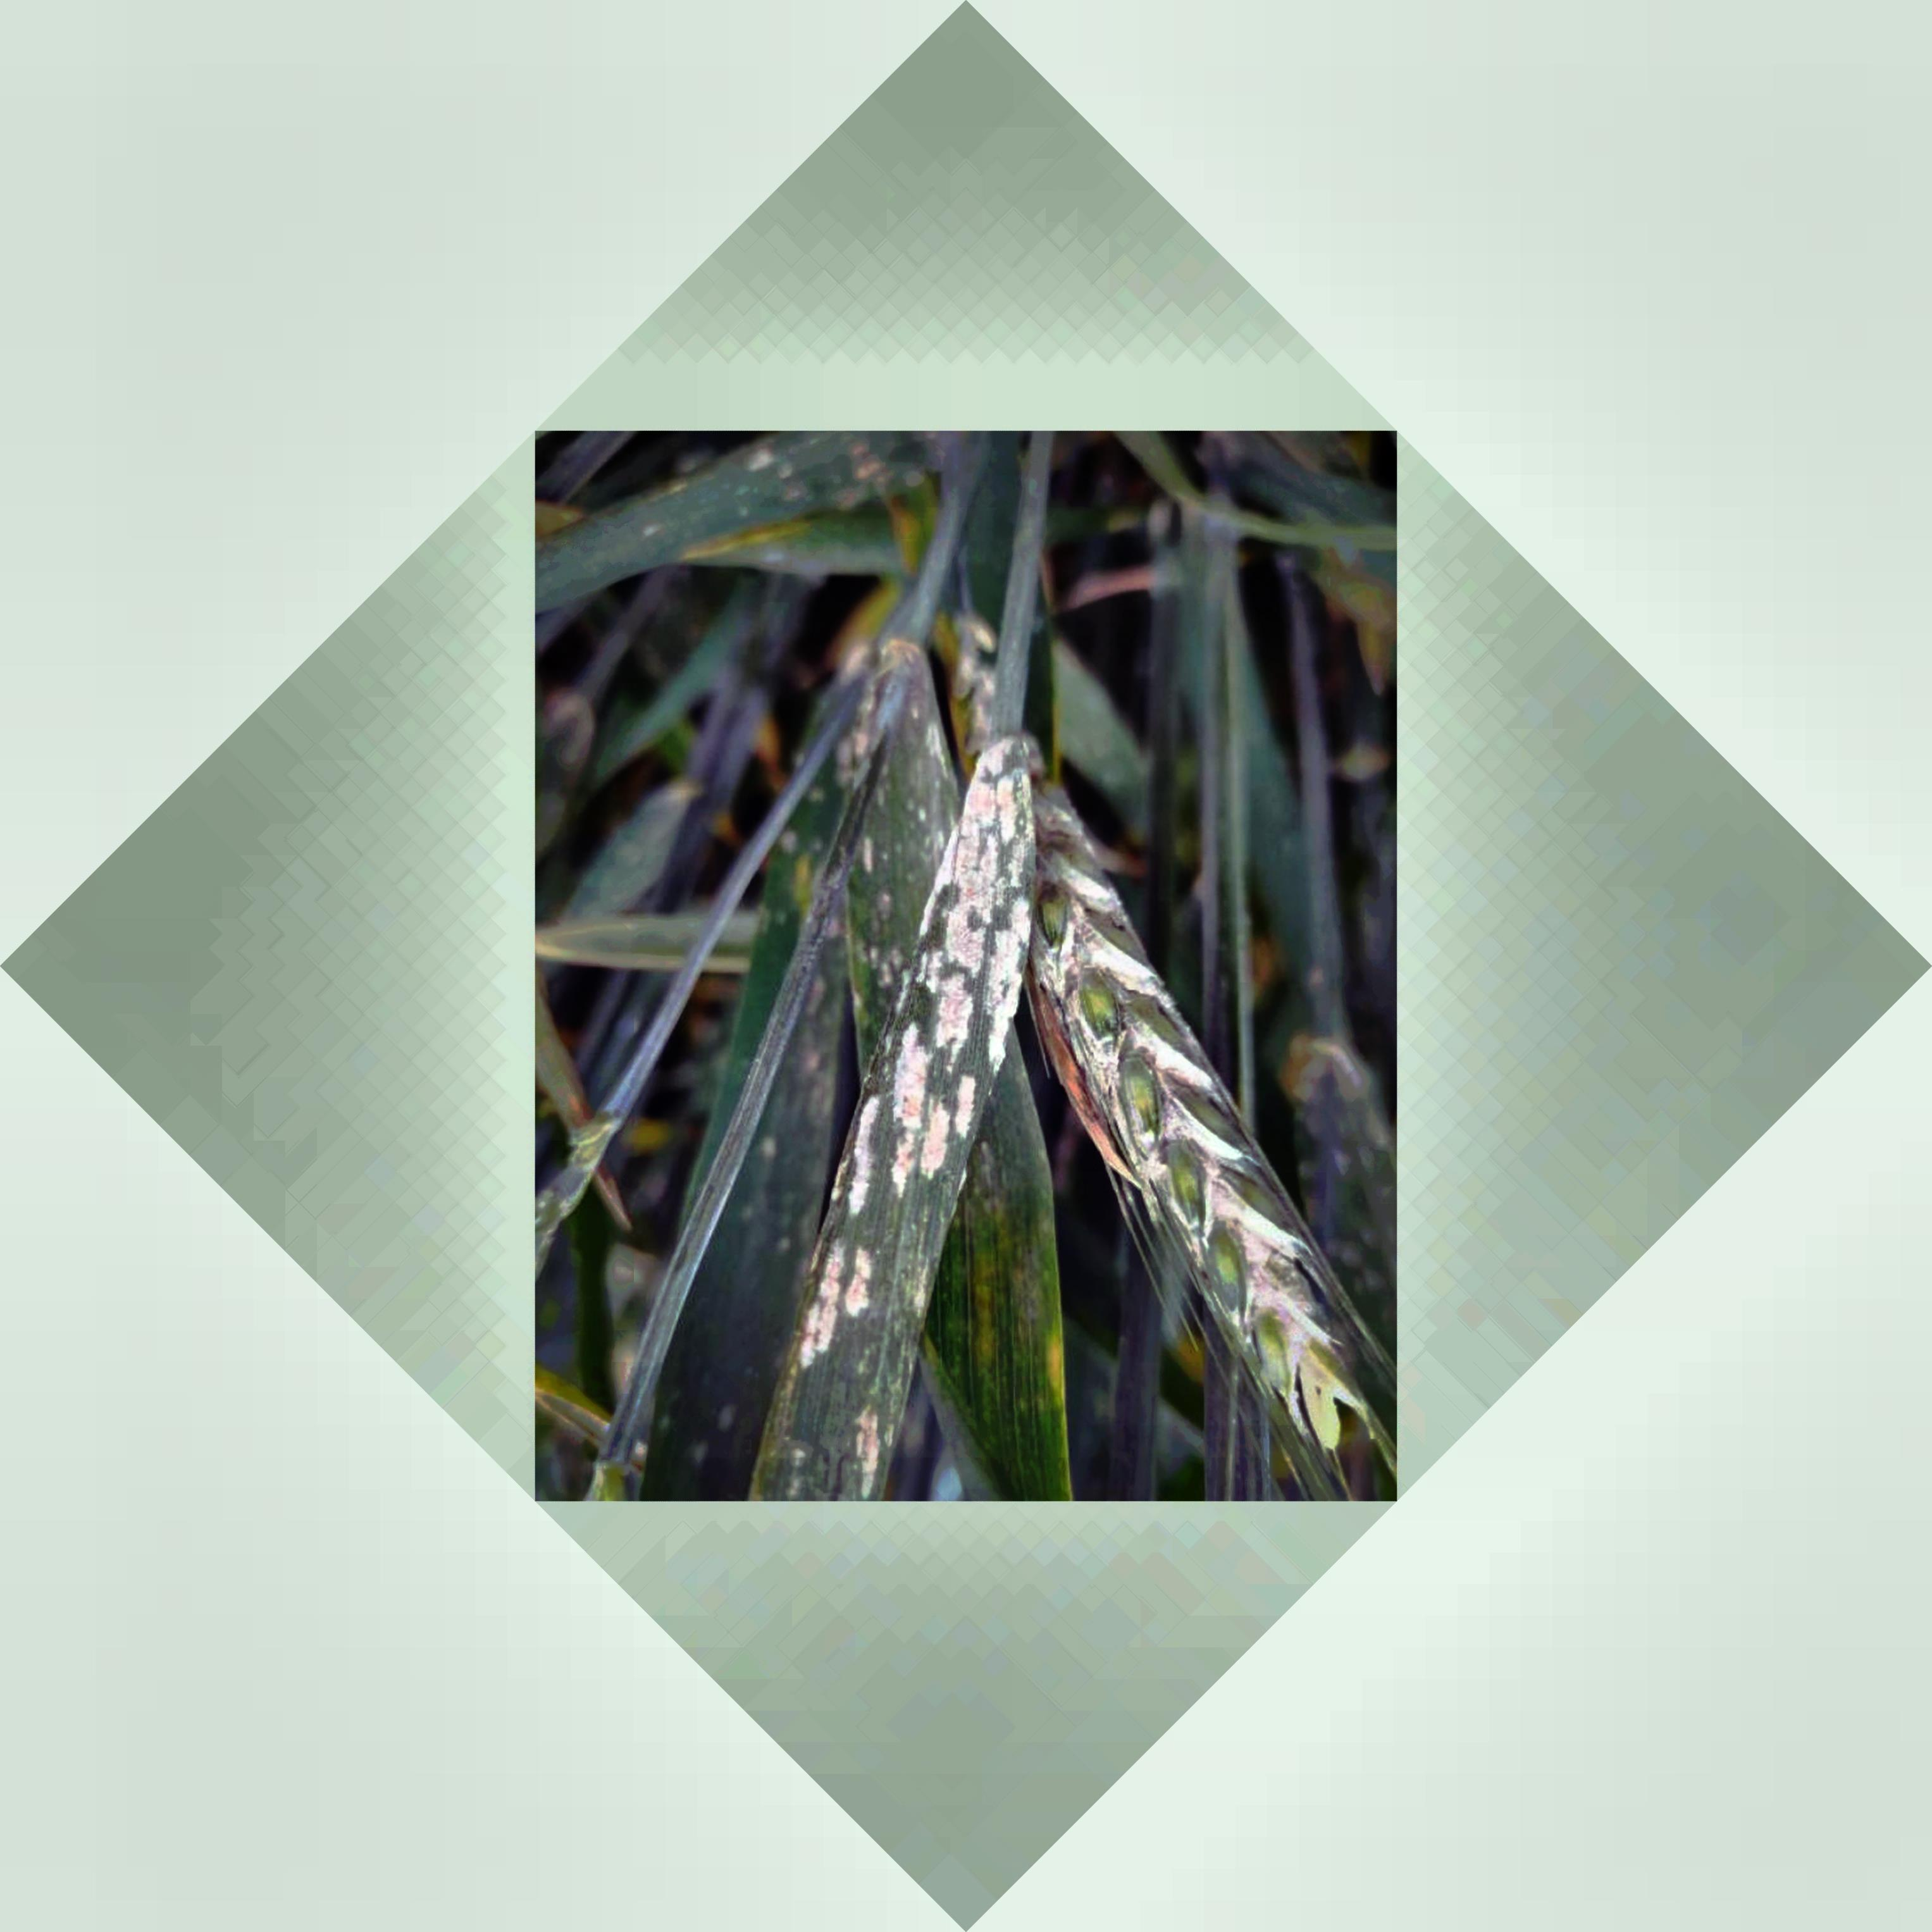Powdery Mildew: (777, 743, 1044, 1343)
